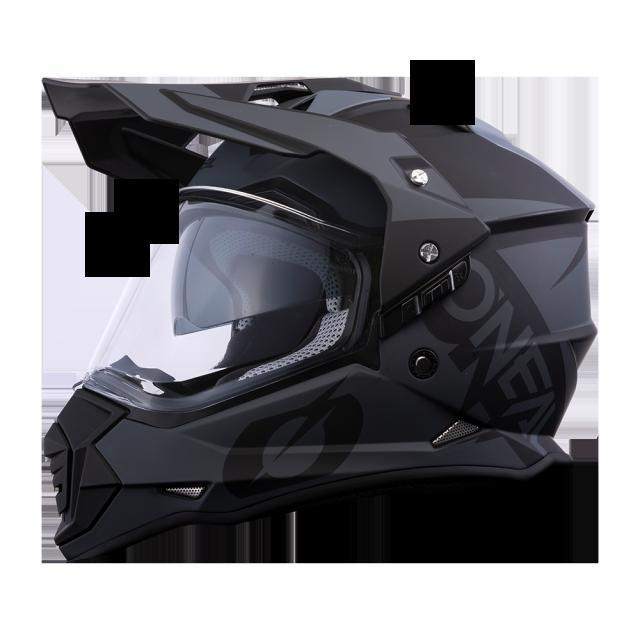helmet: (40, 73, 601, 570)
